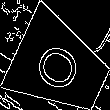O_SE: (31, 36, 89, 97)
